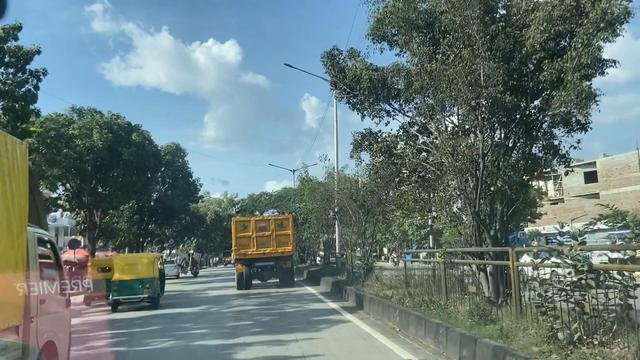HMV: (0, 134, 71, 360), (230, 211, 292, 286)
LMV: (109, 243, 169, 318), (85, 254, 113, 296)
